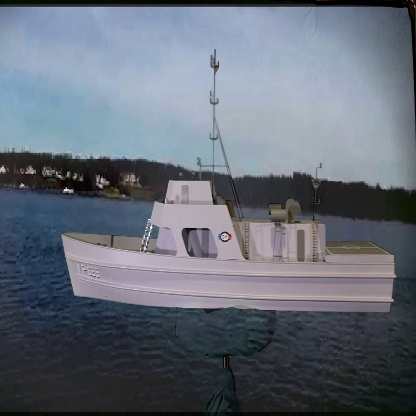YP689: (58, 50, 391, 316)
